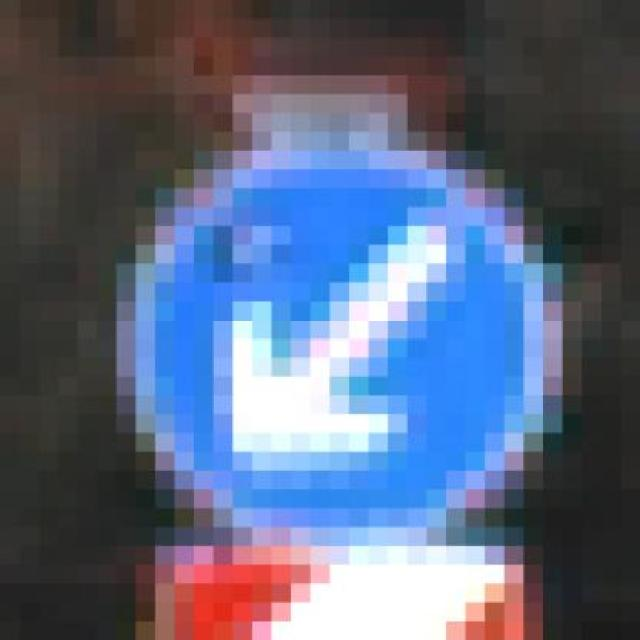Keep-Left: (97, 113, 601, 527)
